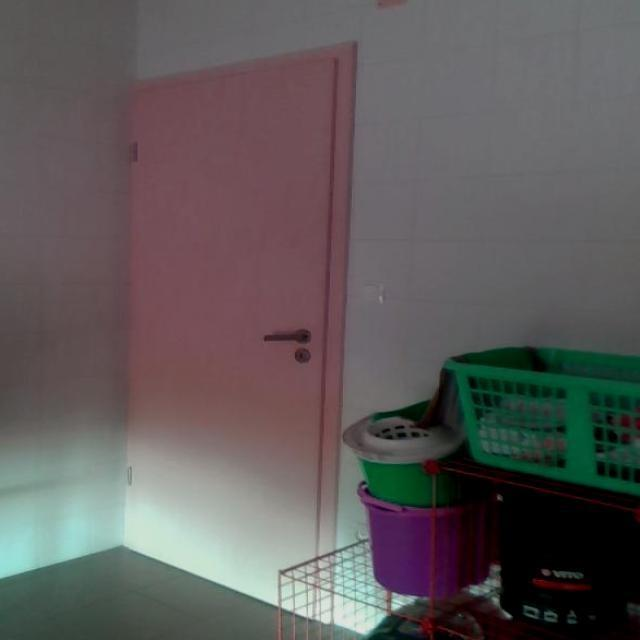door: (122, 41, 355, 615)
